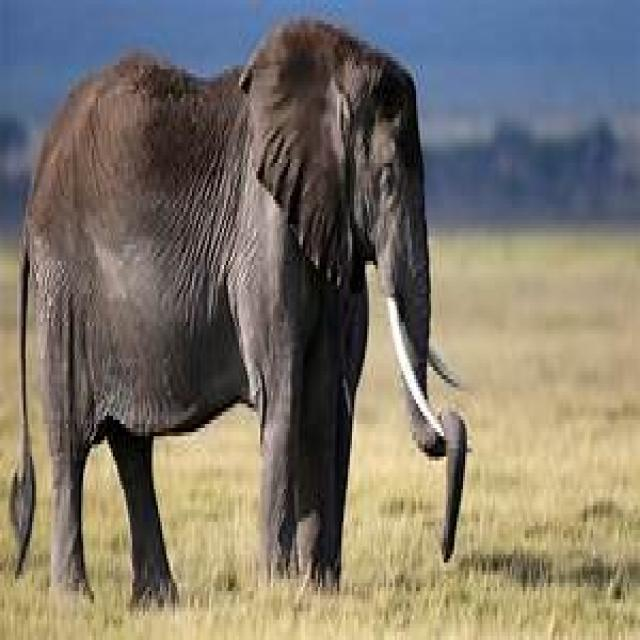elephant: (13, 16, 467, 607)
